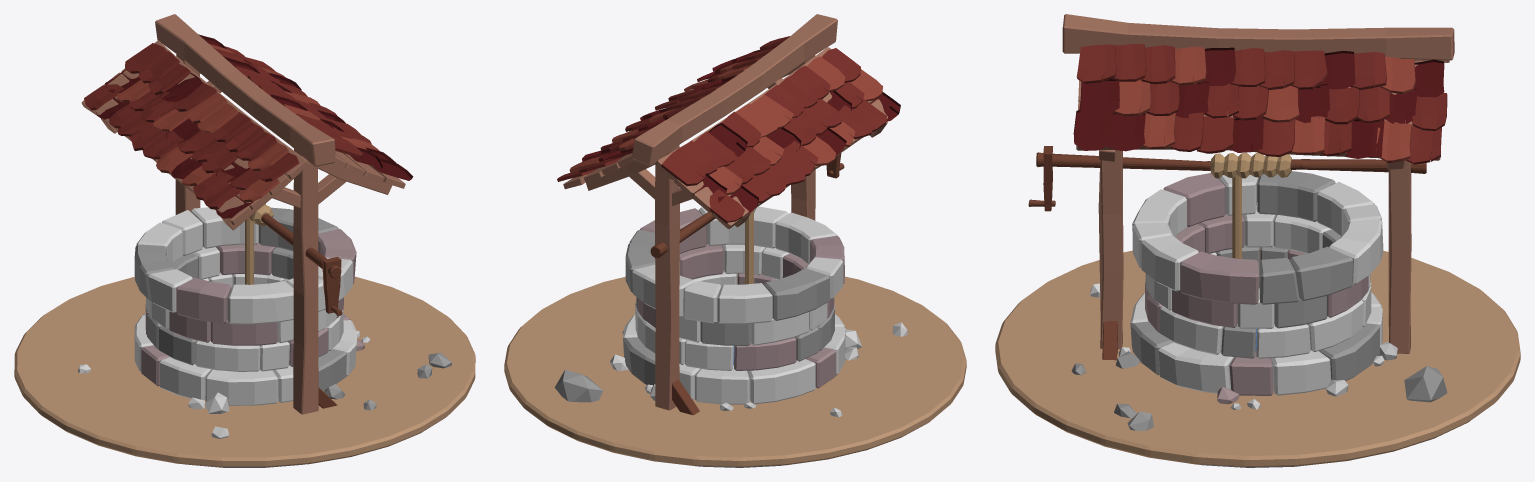
Rendered from well.glb.
The picture shows the model from 3 angles, left to right: view 1: azimuth 30°, elevation 25°; view 2: azimuth 150°, elevation 25°; view 3: azimuth 270°, elevation 25°; orthographic projection. The views are drawn at different scales.
Parts seen in each view (by area): view 1: Circle, Circle.142, Circle.143, Circle.069, Circle.033, Circle.067, Circle.057, Circle.031, Circle.045, Circle.063, Circle.039, Circle.066 (+45 smaller); view 2: Circle, Circle.142, Circle.144, Circle.066, Circle.030, Circle.064, Circle.028, Circle.069, Circle.054, Circle.065, Circle.042, Circle.036 (+49 smaller); view 3: Circle, Circle.142, Circle.144, Circle.143, Circle.060, Circle.155, Circle.024, Circle.066, Circle.061, Circle.025, Circle.063, Circle.027 (+63 smaller).
Boxes of the visible parts, bbox=[...] form: Circle: bbox=[14, 276, 475, 467]; Circle.142: bbox=[155, 14, 335, 166]; Circle.143: bbox=[293, 149, 318, 414]; Circle.069: bbox=[228, 281, 293, 324]; Circle.033: bbox=[205, 369, 278, 405]; Circle.067: bbox=[176, 277, 231, 323]; Circle.057: bbox=[195, 340, 260, 371]; Circle.031: bbox=[160, 357, 211, 400]; Circle.045: bbox=[211, 319, 277, 345]; Circle.063: bbox=[191, 207, 258, 248]; Circle.039: bbox=[216, 241, 275, 275]; Circle.066: bbox=[134, 244, 175, 300]; Circle: bbox=[504, 274, 966, 467]; Circle.142: bbox=[632, 14, 837, 166]; Circle.144: bbox=[655, 145, 679, 410]; Circle.066: bbox=[764, 268, 829, 320]; Circle.030: bbox=[747, 359, 815, 404]; Circle.064: bbox=[717, 283, 772, 324]; Circle.028: bbox=[695, 365, 749, 404]; Circle.069: bbox=[775, 212, 837, 263]; Circle.054: bbox=[734, 337, 796, 370]; Circle.065: bbox=[683, 281, 721, 323]; Circle.042: bbox=[750, 312, 809, 345]; Circle.036: bbox=[679, 244, 723, 279]; Circle: bbox=[995, 247, 1520, 467]; Circle.142: bbox=[1062, 14, 1454, 60]; Circle.144: bbox=[1388, 58, 1411, 353]; Circle.143: bbox=[1098, 150, 1123, 349]; Circle.060: bbox=[1180, 251, 1259, 304]; Circle.155: bbox=[1036, 152, 1426, 173]; Circle.024: bbox=[1158, 342, 1234, 393]; Circle.066: bbox=[1257, 171, 1335, 221]; Circle.061: bbox=[1290, 246, 1352, 300]; Circle.025: bbox=[1270, 350, 1331, 395]; Circle.063: bbox=[1329, 219, 1383, 284]; Circle.027: bbox=[1319, 323, 1379, 380].
Bounding box in the file's own units: 29.59 × 21.52 × 29.59.
